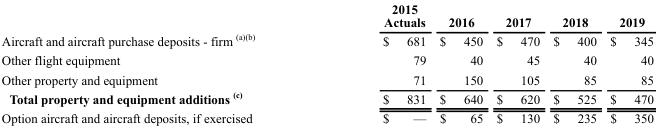table: (0, 1, 652, 125)
table column: (0, 1, 318, 125), (318, 1, 432, 125), (432, 1, 489, 125), (545, 1, 602, 125), (489, 1, 545, 125), (602, 1, 652, 125)
table column header: (0, 1, 652, 29)
table row: (0, 1, 652, 29), (0, 29, 652, 50), (0, 88, 652, 108), (0, 50, 652, 69), (0, 69, 652, 88), (0, 108, 652, 125)
